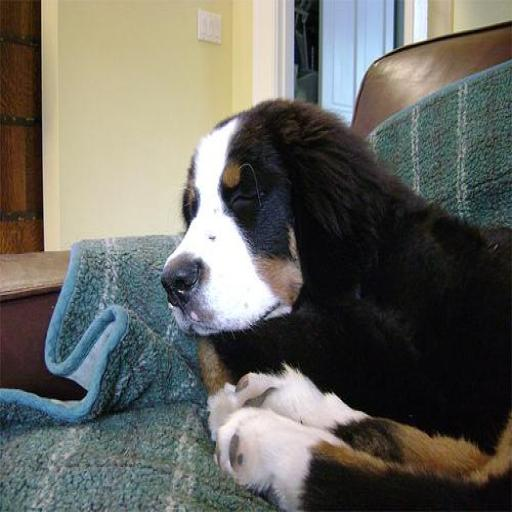dog_face: (160, 100, 334, 329)
